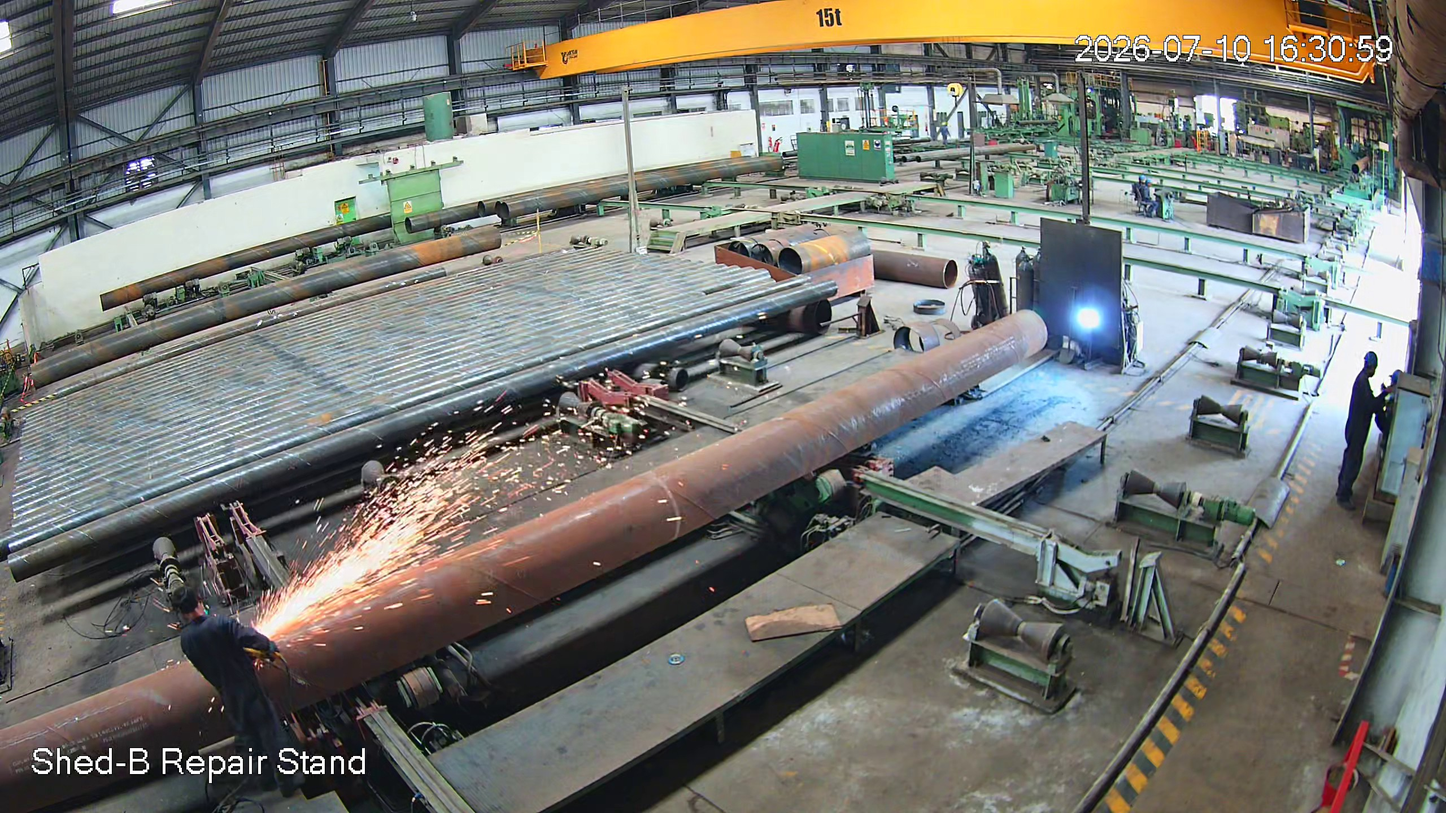Helmet: (1352, 342, 1382, 387)
Person: (174, 584, 323, 802), (1333, 348, 1388, 521)
